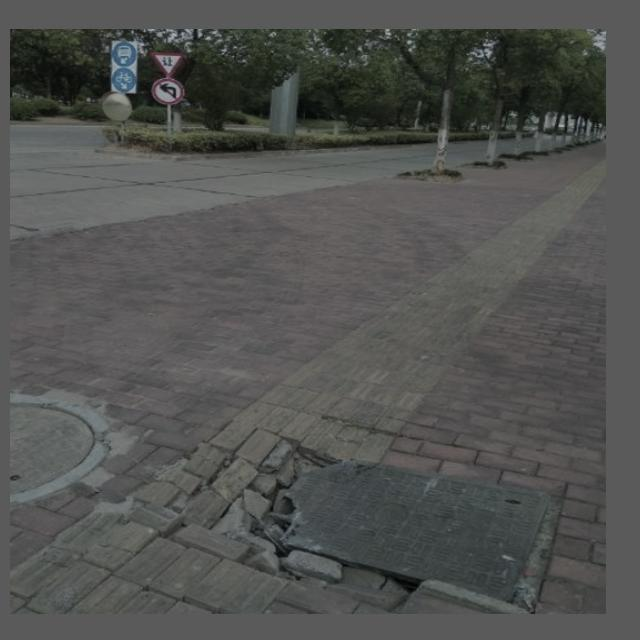broke: (219, 441, 563, 614)
good: (11, 392, 106, 500)
